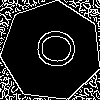O: (26, 26, 77, 70)
